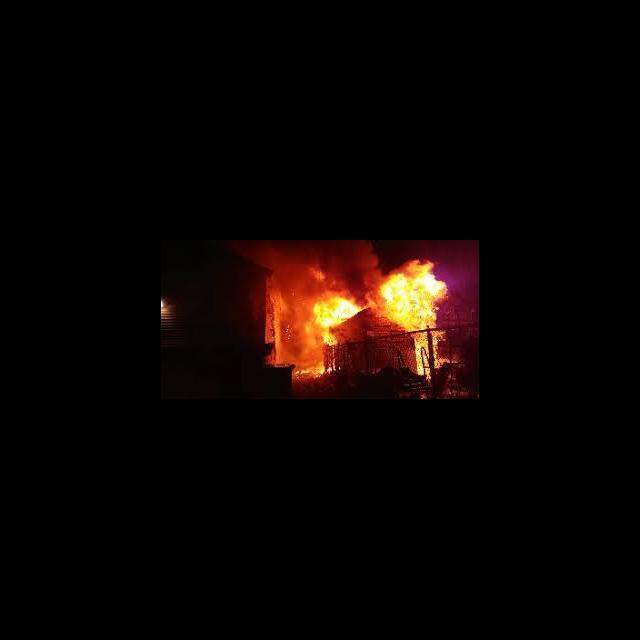Fire: (378, 256, 452, 375), (307, 290, 360, 346), (296, 362, 326, 379)
Smoke: (272, 240, 376, 286)
